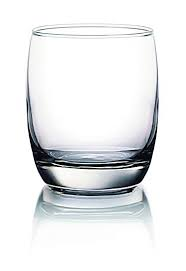glass: (23, 19, 164, 200)
